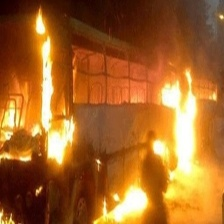fire: (32, 9, 81, 166), (145, 67, 199, 173), (1, 80, 30, 165), (99, 184, 147, 220), (1, 204, 16, 224)
